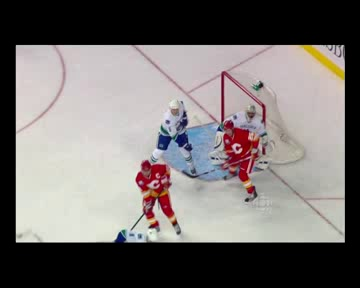normal: (208, 101, 272, 201), (142, 95, 199, 180), (130, 157, 183, 236)
